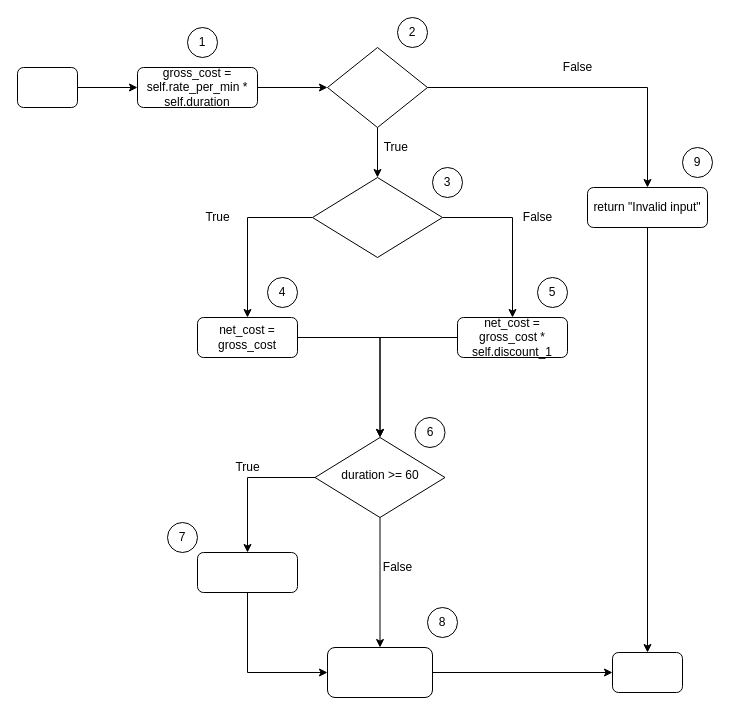
Image size: 730x715. Some labels were removed from this diagram. The centre of each missing label's shape, as x and y in pixels:
entry: (47,87)
exit: (647,672)
net_cost += tax return round(net_cost, 2): (379,672)
net_cost -= net_cost * self.discount_2: (247,572)
start_time in normal range: (377,217)
start_time valid: (377,87)
